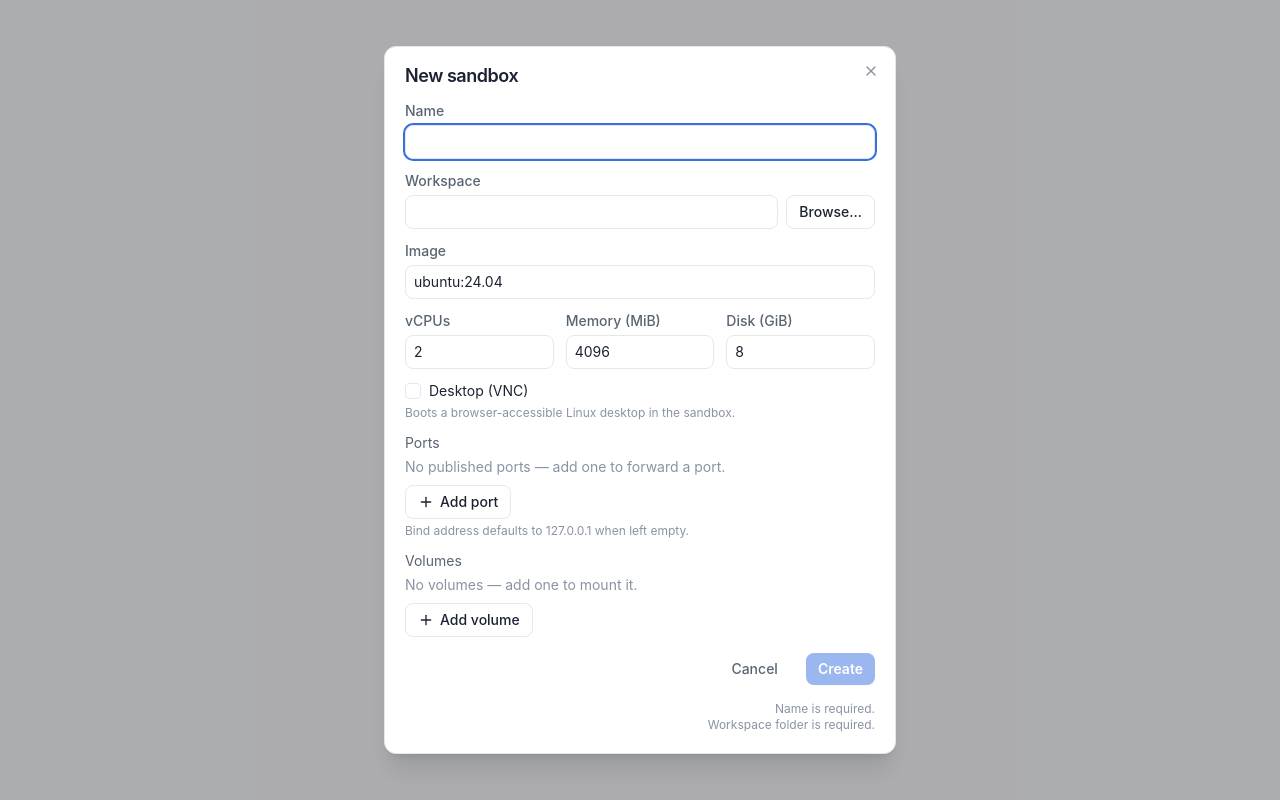
Test case: NewSandbox › labels the port columns and explains the bind field
Step 1. Click the button "Add port" → (458, 502), box [405, 485, 511, 519]
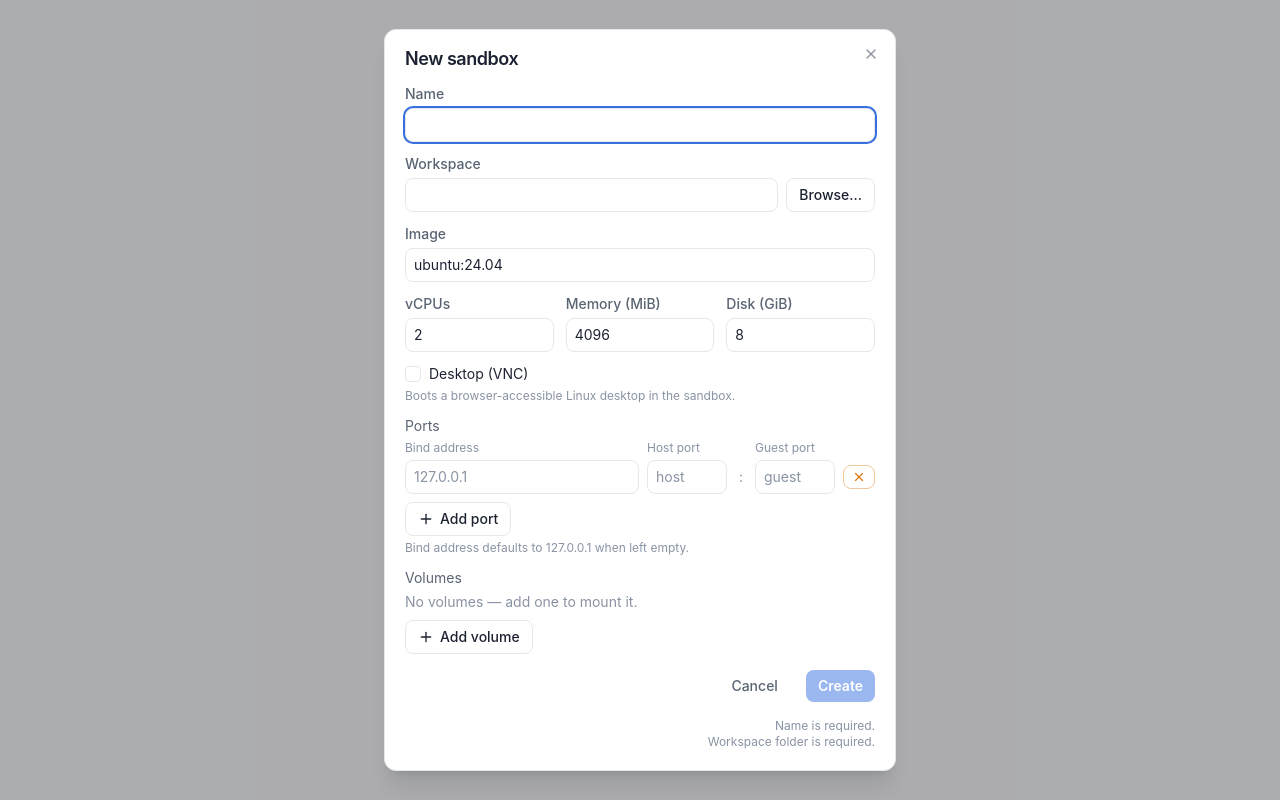
Expected: the text "Bind address defaults to 127.0.0.1 when left empty." is shown, [405, 540, 689, 555]
Result: the text "Host port" is shown at [647, 440, 700, 455]
Result: the text "Guest port" is shown at [755, 440, 815, 455]
